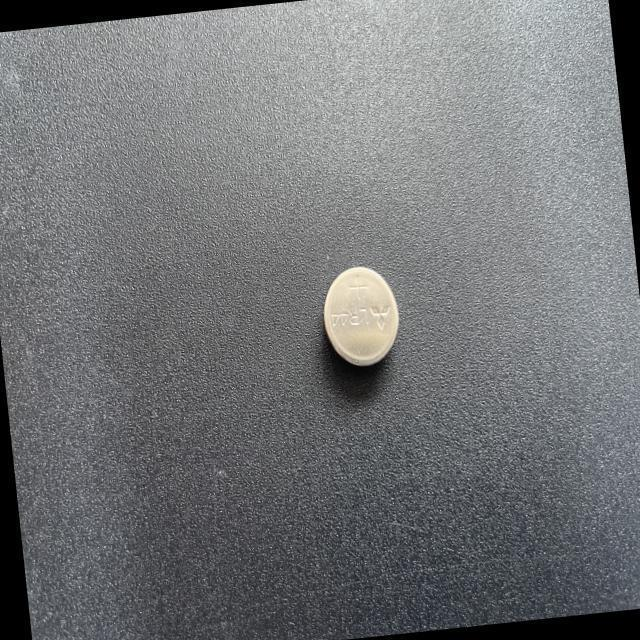COIN: (315, 260, 404, 376)
